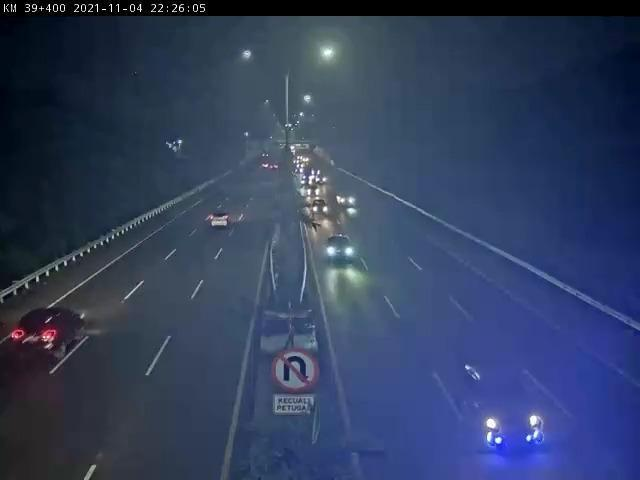car: (460, 355, 564, 452), (20, 301, 91, 370), (327, 229, 360, 273), (206, 213, 242, 238), (314, 196, 333, 216)
